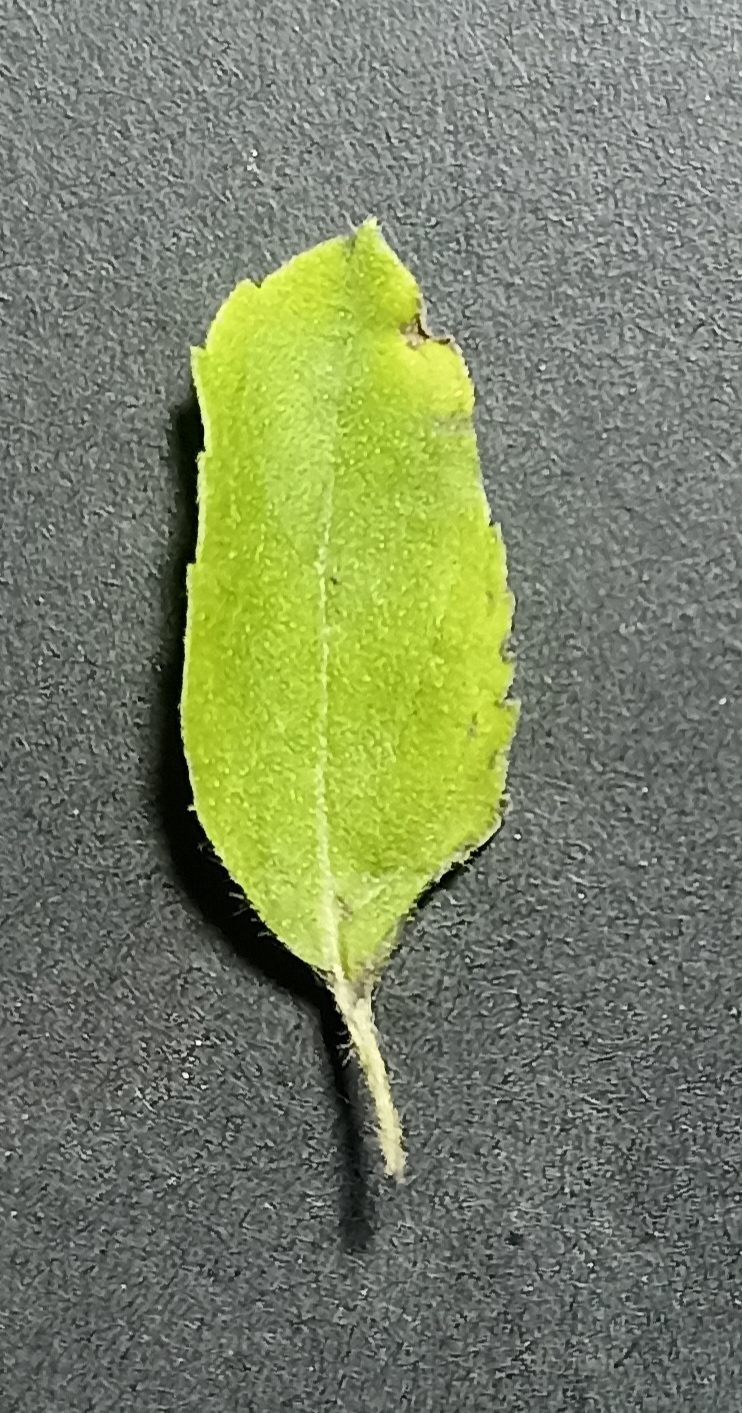Unhealthy: (171, 213, 534, 1000)
